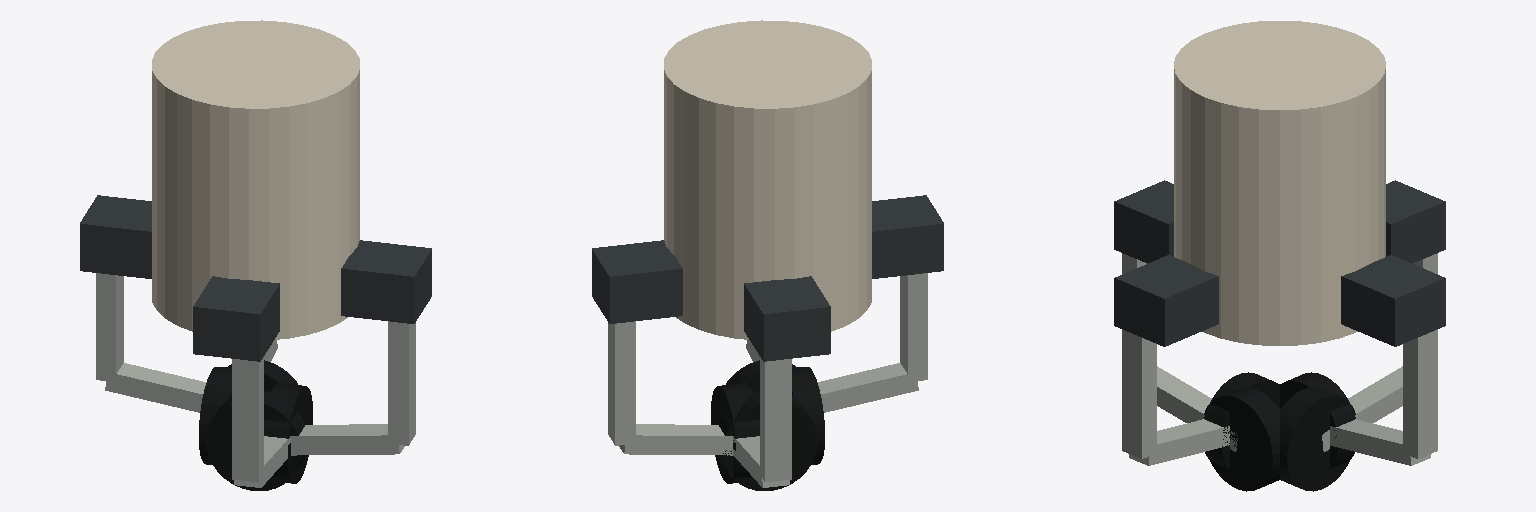
The robot description file, URDF, robot "mist_v2_engineering_candidate":
<?xml version='1.0' encoding='utf-8'?>
<robot name="mist_v2_engineering_candidate">
  <link name="base_link">
    <inertial>
      <origin xyz="0.004428984441 1.951983781e-06 0.04744846475" />
      <mass value="1.87376294555" />
      <inertia ixx="0.008985462459902492" iyy="0.010352070344204193" izz="0.006760728521858776" ixy="0" ixz="0" iyz="0" />
    </inertial>
    <visual>
      <origin xyz="0 0 0.075" rpy="0 0 0" />
      <geometry>
        <cylinder radius="0.09" length="0.22" />
      </geometry>
      <material name="base_link_material">
        <color rgba="0.83 0.8 0.73 1" />
      </material>
    </visual>
    <collision>
      <origin xyz="0 0 0.075" rpy="0 0 0" />
      <geometry>
        <cylinder radius="0.09" length="0.22" />
      </geometry>
    </collision>
  </link>
  <link name="FL_yaw">
    <inertial>
      <origin xyz="0.0175 0.015 0" />
      <mass value="0.185" />
      <inertia ixx="8.671874999999999e-05" iyy="9.635416666666667e-05" izz="0.00012063541666666668" ixy="0" ixz="0" iyz="0" />
    </inertial>
    <visual>
      <origin xyz="0.0175 0.015 0" rpy="0 0 0" />
      <geometry>
        <box size="0.065 0.06 0.045" />
      </geometry>
      <material name="FL_yaw_material">
        <color rgba="0.25 0.27 0.28 1" />
      </material>
    </visual>
    <collision>
      <origin xyz="0.0175 0.015 0" rpy="0 0 0" />
      <geometry>
        <box size="0.065 0.06 0.045" />
      </geometry>
    </collision>
  </link>
  <joint name="FL_q1_yaw" type="revolute">
    <parent link="base_link" />
    <child link="FL_yaw" />
    <origin xyz="0.07283199846 0.07283199846 0" rpy="0 0 0.7853981634" />
    <axis xyz="0 0 1" />
    <limit lower="-1.7453292519943295" upper="1.7453292519943295" effort="20" velocity="20" />
    <dynamics damping="0" friction="0" />
  </joint>
  <link name="FL_femur">
    <inertial>
      <origin xyz="0 0 -0.07" />
      <mass value="0.08" />
      <inertia ixx="0.0001345066666666667" iyy="0.0001328266666666667" izz="6e-06" ixy="0" ixz="0" iyz="0" />
    </inertial>
    <visual>
      <origin xyz="0 0 -0.07" rpy="0 0 0" />
      <geometry>
        <box size="0.018 0.024 0.14" />
      </geometry>
      <material name="FL_femur_material">
        <color rgba="0.68 0.7 0.67 1" />
      </material>
    </visual>
    <collision>
      <origin xyz="0 0 -0.07" rpy="0 0 0" />
      <geometry>
        <box size="0.018 0.024 0.14" />
      </geometry>
    </collision>
  </link>
  <joint name="FL_q2_hip" type="revolute">
    <parent link="FL_yaw" />
    <child link="FL_femur" />
    <origin xyz="0.035 0.03 0" rpy="0 0 0" />
    <axis xyz="0 -1 0" />
    <limit lower="-0.6981317007977318" upper="2.181661564992912" effort="20" velocity="20" />
    <dynamics damping="0" friction="0" />
  </joint>
  <link name="FL_tibia">
    <inertial>
      <origin xyz="0 0 -0.1014" />
      <mass value="0.2" />
      <inertia ixx="0.0002912666666666667" iyy="0.00028706666666666674" izz="1.5e-05" ixy="0" ixz="0" iyz="0" />
    </inertial>
    <visual>
      <origin xyz="0 0 -0.065" rpy="0 0 0" />
      <geometry>
        <box size="0.018 0.024 0.13" />
      </geometry>
      <material name="FL_tibia_material">
        <color rgba="0.68 0.7 0.67 1" />
      </material>
    </visual>
    <collision>
      <origin xyz="0 0 -0.065" rpy="0 0 0" />
      <geometry>
        <box size="0.018 0.024 0.13" />
      </geometry>
    </collision>
  </link>
  <joint name="FL_q3_knee" type="revolute">
    <parent link="FL_femur" />
    <child link="FL_tibia" />
    <origin xyz="0 0 -0.14" rpy="0 0 0" />
    <axis xyz="0 -1 0" />
    <limit lower="-2.6179938779914944" upper="-0.2617993877991494" effort="20" velocity="20" />
    <dynamics damping="0" friction="0" />
  </joint>
  <link name="FL_wheel">
    <inertial>
      <origin xyz="0 0 0" />
      <mass value="0.055" />
      <inertia ixx="2.74759375e-05" iyy="4.9671875000000006e-05" izz="2.74759375e-05" ixy="0" ixz="0" iyz="0" />
    </inertial>
    <visual>
      <origin xyz="0 0 0" rpy="1.570796327 0 0" />
      <geometry>
        <cylinder radius="0.0425" length="0.024" />
      </geometry>
      <material name="FL_wheel_material">
        <color rgba="0.12 0.13 0.13 1" />
      </material>
    </visual>
    <collision>
      <origin xyz="0 0 0" rpy="1.570796327 0 0" />
      <geometry>
        <cylinder radius="0.0425" length="0.024" />
      </geometry>
    </collision>
  </link>
  <joint name="FL_wheel_drive" type="continuous">
    <parent link="FL_tibia" />
    <child link="FL_wheel" />
    <origin xyz="0 0 -0.13" rpy="0 0 0" />
    <axis xyz="0 -1 0" />
    <dynamics damping="0" friction="0" />
  </joint>
  <link name="FR_yaw">
    <inertial>
      <origin xyz="0.0175 -0.015 0" />
      <mass value="0.185" />
      <inertia ixx="8.671874999999999e-05" iyy="9.635416666666667e-05" izz="0.00012063541666666668" ixy="0" ixz="0" iyz="0" />
    </inertial>
    <visual>
      <origin xyz="0.0175 -0.015 0" rpy="0 0 0" />
      <geometry>
        <box size="0.065 0.06 0.045" />
      </geometry>
      <material name="FR_yaw_material">
        <color rgba="0.25 0.27 0.28 1" />
      </material>
    </visual>
    <collision>
      <origin xyz="0.0175 -0.015 0" rpy="0 0 0" />
      <geometry>
        <box size="0.065 0.06 0.045" />
      </geometry>
    </collision>
  </link>
  <joint name="FR_q1_yaw" type="revolute">
    <parent link="base_link" />
    <child link="FR_yaw" />
    <origin xyz="0.07283199846 -0.07283199846 0" rpy="0 0 -0.7853981634" />
    <axis xyz="0 0 1" />
    <limit lower="-1.7453292519943295" upper="1.7453292519943295" effort="20" velocity="20" />
    <dynamics damping="0" friction="0" />
  </joint>
  <link name="FR_femur">
    <inertial>
      <origin xyz="0 0 -0.07" />
      <mass value="0.08" />
      <inertia ixx="0.0001345066666666667" iyy="0.0001328266666666667" izz="6e-06" ixy="0" ixz="0" iyz="0" />
    </inertial>
    <visual>
      <origin xyz="0 0 -0.07" rpy="0 0 0" />
      <geometry>
        <box size="0.018 0.024 0.14" />
      </geometry>
      <material name="FR_femur_material">
        <color rgba="0.68 0.7 0.67 1" />
      </material>
    </visual>
    <collision>
      <origin xyz="0 0 -0.07" rpy="0 0 0" />
      <geometry>
        <box size="0.018 0.024 0.14" />
      </geometry>
    </collision>
  </link>
  <joint name="FR_q2_hip" type="revolute">
    <parent link="FR_yaw" />
    <child link="FR_femur" />
    <origin xyz="0.035 -0.03 0" rpy="0 0 0" />
    <axis xyz="0 -1 0" />
    <limit lower="-0.6981317007977318" upper="2.181661564992912" effort="20" velocity="20" />
    <dynamics damping="0" friction="0" />
  </joint>
  <link name="FR_tibia">
    <inertial>
      <origin xyz="0 0 -0.1014" />
      <mass value="0.2" />
      <inertia ixx="0.0002912666666666667" iyy="0.00028706666666666674" izz="1.5e-05" ixy="0" ixz="0" iyz="0" />
    </inertial>
    <visual>
      <origin xyz="0 0 -0.065" rpy="0 0 0" />
      <geometry>
        <box size="0.018 0.024 0.13" />
      </geometry>
      <material name="FR_tibia_material">
        <color rgba="0.68 0.7 0.67 1" />
      </material>
    </visual>
    <collision>
      <origin xyz="0 0 -0.065" rpy="0 0 0" />
      <geometry>
        <box size="0.018 0.024 0.13" />
      </geometry>
    </collision>
  </link>
  <joint name="FR_q3_knee" type="revolute">
    <parent link="FR_femur" />
    <child link="FR_tibia" />
    <origin xyz="0 0 -0.14" rpy="0 0 0" />
    <axis xyz="0 -1 0" />
    <limit lower="-2.6179938779914944" upper="-0.2617993877991494" effort="20" velocity="20" />
    <dynamics damping="0" friction="0" />
  </joint>
  <link name="FR_wheel">
    <inertial>
      <origin xyz="0 0 0" />
      <mass value="0.055" />
      <inertia ixx="2.74759375e-05" iyy="4.9671875000000006e-05" izz="2.74759375e-05" ixy="0" ixz="0" iyz="0" />
    </inertial>
    <visual>
      <origin xyz="0 0 0" rpy="1.570796327 0 0" />
      <geometry>
        <cylinder radius="0.0425" length="0.024" />
      </geometry>
      <material name="FR_wheel_material">
        <color rgba="0.12 0.13 0.13 1" />
      </material>
    </visual>
    <collision>
      <origin xyz="0 0 0" rpy="1.570796327 0 0" />
      <geometry>
        <cylinder radius="0.0425" length="0.024" />
      </geometry>
    </collision>
  </link>
  <joint name="FR_wheel_drive" type="continuous">
    <parent link="FR_tibia" />
    <child link="FR_wheel" />
    <origin xyz="0 0 -0.13" rpy="0 0 0" />
    <axis xyz="0 -1 0" />
    <dynamics damping="0" friction="0" />
  </joint>
  <link name="RL_yaw">
    <inertial>
      <origin xyz="0.0175 -0.015 0" />
      <mass value="0.185" />
      <inertia ixx="8.671874999999999e-05" iyy="9.635416666666667e-05" izz="0.00012063541666666668" ixy="0" ixz="0" iyz="0" />
    </inertial>
    <visual>
      <origin xyz="0.0175 -0.015 0" rpy="0 0 0" />
      <geometry>
        <box size="0.065 0.06 0.045" />
      </geometry>
      <material name="RL_yaw_material">
        <color rgba="0.25 0.27 0.28 1" />
      </material>
    </visual>
    <collision>
      <origin xyz="0.0175 -0.015 0" rpy="0 0 0" />
      <geometry>
        <box size="0.065 0.06 0.045" />
      </geometry>
    </collision>
  </link>
  <joint name="RL_q1_yaw" type="revolute">
    <parent link="base_link" />
    <child link="RL_yaw" />
    <origin xyz="-0.07283199846 0.07283199846 0" rpy="0 0 2.35619449" />
    <axis xyz="0 0 1" />
    <limit lower="-1.7453292519943295" upper="1.7453292519943295" effort="20" velocity="20" />
    <dynamics damping="0" friction="0" />
  </joint>
  <link name="RL_femur">
    <inertial>
      <origin xyz="0 0 -0.07" />
      <mass value="0.08" />
      <inertia ixx="0.0001345066666666667" iyy="0.0001328266666666667" izz="6e-06" ixy="0" ixz="0" iyz="0" />
    </inertial>
    <visual>
      <origin xyz="0 0 -0.07" rpy="0 0 0" />
      <geometry>
        <box size="0.018 0.024 0.14" />
      </geometry>
      <material name="RL_femur_material">
        <color rgba="0.68 0.7 0.67 1" />
      </material>
    </visual>
    <collision>
      <origin xyz="0 0 -0.07" rpy="0 0 0" />
      <geometry>
        <box size="0.018 0.024 0.14" />
      </geometry>
    </collision>
  </link>
  <joint name="RL_q2_hip" type="revolute">
    <parent link="RL_yaw" />
    <child link="RL_femur" />
    <origin xyz="0.035 -0.03 0" rpy="0 0 0" />
    <axis xyz="0 -1 0" />
    <limit lower="-0.6981317007977318" upper="2.181661564992912" effort="20" velocity="20" />
    <dynamics damping="0" friction="0" />
  </joint>
  <link name="RL_tibia">
    <inertial>
      <origin xyz="0 0 -0.1014" />
      <mass value="0.2" />
      <inertia ixx="0.0002912666666666667" iyy="0.00028706666666666674" izz="1.5e-05" ixy="0" ixz="0" iyz="0" />
    </inertial>
    <visual>
      <origin xyz="0 0 -0.065" rpy="0 0 0" />
      <geometry>
        <box size="0.018 0.024 0.13" />
      </geometry>
      <material name="RL_tibia_material">
        <color rgba="0.68 0.7 0.67 1" />
      </material>
    </visual>
    <collision>
      <origin xyz="0 0 -0.065" rpy="0 0 0" />
      <geometry>
        <box size="0.018 0.024 0.13" />
      </geometry>
    </collision>
  </link>
  <joint name="RL_q3_knee" type="revolute">
    <parent link="RL_femur" />
    <child link="RL_tibia" />
    <origin xyz="0 0 -0.14" rpy="0 0 0" />
    <axis xyz="0 -1 0" />
    <limit lower="-2.6179938779914944" upper="-0.2617993877991494" effort="20" velocity="20" />
    <dynamics damping="0" friction="0" />
  </joint>
  <link name="RL_wheel">
    <inertial>
      <origin xyz="0 0 0" />
      <mass value="0.055" />
      <inertia ixx="2.74759375e-05" iyy="4.9671875000000006e-05" izz="2.74759375e-05" ixy="0" ixz="0" iyz="0" />
    </inertial>
    <visual>
      <origin xyz="0 0 0" rpy="1.570796327 0 0" />
      <geometry>
        <cylinder radius="0.0425" length="0.024" />
      </geometry>
      <material name="RL_wheel_material">
        <color rgba="0.12 0.13 0.13 1" />
      </material>
    </visual>
    <collision>
      <origin xyz="0 0 0" rpy="1.570796327 0 0" />
      <geometry>
        <cylinder radius="0.0425" length="0.024" />
      </geometry>
    </collision>
  </link>
  <joint name="RL_wheel_drive" type="continuous">
    <parent link="RL_tibia" />
    <child link="RL_wheel" />
    <origin xyz="0 0 -0.13" rpy="0 0 0" />
    <axis xyz="0 -1 0" />
    <dynamics damping="0" friction="0" />
  </joint>
  <link name="RR_yaw">
    <inertial>
      <origin xyz="0.0175 0.015 0" />
      <mass value="0.185" />
      <inertia ixx="8.671874999999999e-05" iyy="9.635416666666667e-05" izz="0.00012063541666666668" ixy="0" ixz="0" iyz="0" />
    </inertial>
    <visual>
      <origin xyz="0.0175 0.015 0" rpy="0 0 0" />
      <geometry>
        <box size="0.065 0.06 0.045" />
      </geometry>
      <material name="RR_yaw_material">
        <color rgba="0.25 0.27 0.28 1" />
      </material>
    </visual>
    <collision>
      <origin xyz="0.0175 0.015 0" rpy="0 0 0" />
      <geometry>
        <box size="0.065 0.06 0.045" />
      </geometry>
    </collision>
  </link>
  <joint name="RR_q1_yaw" type="revolute">
    <parent link="base_link" />
    <child link="RR_yaw" />
    <origin xyz="-0.07283199846 -0.07283199846 0" rpy="0 0 -2.35619449" />
    <axis xyz="0 0 1" />
    <limit lower="-1.7453292519943295" upper="1.7453292519943295" effort="20" velocity="20" />
    <dynamics damping="0" friction="0" />
  </joint>
  <link name="RR_femur">
    <inertial>
      <origin xyz="0 0 -0.07" />
      <mass value="0.08" />
      <inertia ixx="0.0001345066666666667" iyy="0.0001328266666666667" izz="6e-06" ixy="0" ixz="0" iyz="0" />
    </inertial>
    <visual>
      <origin xyz="0 0 -0.07" rpy="0 0 0" />
      <geometry>
        <box size="0.018 0.024 0.14" />
      </geometry>
      <material name="RR_femur_material">
        <color rgba="0.68 0.7 0.67 1" />
      </material>
    </visual>
    <collision>
      <origin xyz="0 0 -0.07" rpy="0 0 0" />
      <geometry>
        <box size="0.018 0.024 0.14" />
      </geometry>
    </collision>
  </link>
  <joint name="RR_q2_hip" type="revolute">
    <parent link="RR_yaw" />
    <child link="RR_femur" />
    <origin xyz="0.035 0.03 0" rpy="0 0 0" />
    <axis xyz="0 -1 0" />
    <limit lower="-0.6981317007977318" upper="2.181661564992912" effort="20" velocity="20" />
    <dynamics damping="0" friction="0" />
  </joint>
  <link name="RR_tibia">
    <inertial>
      <origin xyz="0 0 -0.1014" />
      <mass value="0.2" />
      <inertia ixx="0.0002912666666666667" iyy="0.00028706666666666674" izz="1.5e-05" ixy="0" ixz="0" iyz="0" />
    </inertial>
    <visual>
      <origin xyz="0 0 -0.065" rpy="0 0 0" />
      <geometry>
        <box size="0.018 0.024 0.13" />
      </geometry>
      <material name="RR_tibia_material">
        <color rgba="0.68 0.7 0.67 1" />
      </material>
    </visual>
    <collision>
      <origin xyz="0 0 -0.065" rpy="0 0 0" />
      <geometry>
        <box size="0.018 0.024 0.13" />
      </geometry>
    </collision>
  </link>
  <joint name="RR_q3_knee" type="revolute">
    <parent link="RR_femur" />
    <child link="RR_tibia" />
    <origin xyz="0 0 -0.14" rpy="0 0 0" />
    <axis xyz="0 -1 0" />
    <limit lower="-2.6179938779914944" upper="-0.2617993877991494" effort="20" velocity="20" />
    <dynamics damping="0" friction="0" />
  </joint>
  <link name="RR_wheel">
    <inertial>
      <origin xyz="0 0 0" />
      <mass value="0.055" />
      <inertia ixx="2.74759375e-05" iyy="4.9671875000000006e-05" izz="2.74759375e-05" ixy="0" ixz="0" iyz="0" />
    </inertial>
    <visual>
      <origin xyz="0 0 0" rpy="1.570796327 0 0" />
      <geometry>
        <cylinder radius="0.0425" length="0.024" />
      </geometry>
      <material name="RR_wheel_material">
        <color rgba="0.12 0.13 0.13 1" />
      </material>
    </visual>
    <collision>
      <origin xyz="0 0 0" rpy="1.570796327 0 0" />
      <geometry>
        <cylinder radius="0.0425" length="0.024" />
      </geometry>
    </collision>
  </link>
  <joint name="RR_wheel_drive" type="continuous">
    <parent link="RR_tibia" />
    <child link="RR_wheel" />
    <origin xyz="0 0 -0.13" rpy="0 0 0" />
    <axis xyz="0 -1 0" />
    <dynamics damping="0" friction="0" />
  </joint>
</robot>

--- Facts derived from the render (not from the file) ---
3 views of the same robot in one strip: view 1: azimuth 30°, elevation 25°; view 2: azimuth 150°, elevation 25°; view 3: azimuth 270°, elevation 25° (orthographic).
Model mist_v2_engineering_candidate with 17 links and 16 joints (12 revolute, 4 continuous), rooted at base_link, posed all joints at 0 but 4 set to mid-range because 0 is outside their limits (FL_q3_knee = -1.44, FR_q3_knee = -1.44, RL_q3_knee = -1.44, RR_q3_knee = -1.44).
Visible links, largest first — view 1: base_link, FR_yaw, RR_yaw, RL_yaw, RR_femur, FR_femur, FR_tibia, RL_femur, RL_tibia, FR_wheel, RR_wheel, FL_wheel (+2 smaller); view 2: base_link, FL_yaw, RL_yaw, RR_yaw, RL_femur, FL_femur, FL_tibia, RR_femur, RR_tibia, FL_wheel, RL_wheel, FR_wheel (+2 smaller); view 3: base_link, FL_yaw, FR_yaw, RR_wheel, RL_wheel, FL_femur, FR_femur, RL_yaw, RR_yaw, FR_tibia, FL_tibia, RL_tibia (+3 smaller).
Link boxes in pixels (x1,y1,x2,y2): base_link: [152, 20, 359, 339]; FR_yaw: [341, 240, 431, 323]; RR_yaw: [193, 276, 279, 361]; RL_yaw: [80, 195, 151, 278]; RR_femur: [232, 357, 263, 481]; FR_femur: [388, 321, 415, 445]; FR_tibia: [291, 424, 404, 455]; RL_femur: [96, 273, 123, 381]; RL_tibia: [105, 363, 206, 412]; FR_wheel: [206, 391, 305, 490]; RR_wheel: [264, 383, 312, 483]; FL_wheel: [199, 367, 231, 464]; base_link: [664, 20, 871, 339]; FL_yaw: [592, 240, 682, 323]; RL_yaw: [744, 276, 830, 361]; RR_yaw: [872, 195, 943, 278]; RL_femur: [760, 357, 791, 481]; FL_femur: [608, 321, 635, 445]; FL_tibia: [619, 424, 732, 455]; RR_femur: [900, 273, 927, 381]; RR_tibia: [817, 363, 918, 412]; FL_wheel: [718, 391, 817, 490]; RL_wheel: [711, 383, 759, 483]; FR_wheel: [792, 367, 824, 464]; base_link: [1174, 21, 1385, 345]; FL_yaw: [1341, 255, 1445, 346]; FR_yaw: [1114, 255, 1218, 346]; RR_wheel: [1204, 388, 1279, 491]; RL_wheel: [1280, 388, 1355, 491]; FL_femur: [1403, 329, 1437, 458]; FR_femur: [1122, 329, 1156, 458]; RL_yaw: [1386, 180, 1445, 263]; RR_yaw: [1114, 180, 1173, 263]; FR_tibia: [1129, 419, 1229, 465]; FL_tibia: [1330, 419, 1430, 465]; RL_tibia: [1322, 366, 1402, 451].
Size in the robot's own frame: 0.2376 by 0.28 by 0.3844 metres.
Geometry: primitives only (box / cylinder / sphere), no mesh files.
